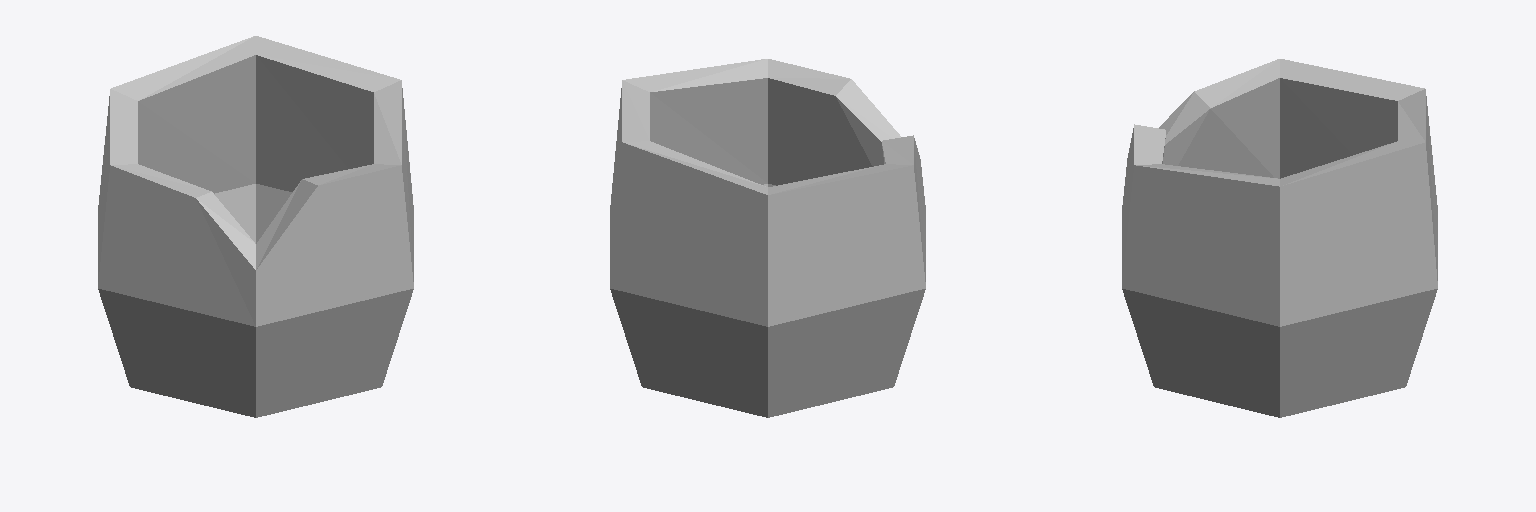
File: Coconut.OBJ
3 views of the same model, side by side, from view 1: azimuth 30°, elevation 25°; view 2: azimuth 150°, elevation 25°; view 3: azimuth 270°, elevation 25° (orthographic).
Bounding box in the file's own units: 0.1086 × 0.0979 × 0.094.